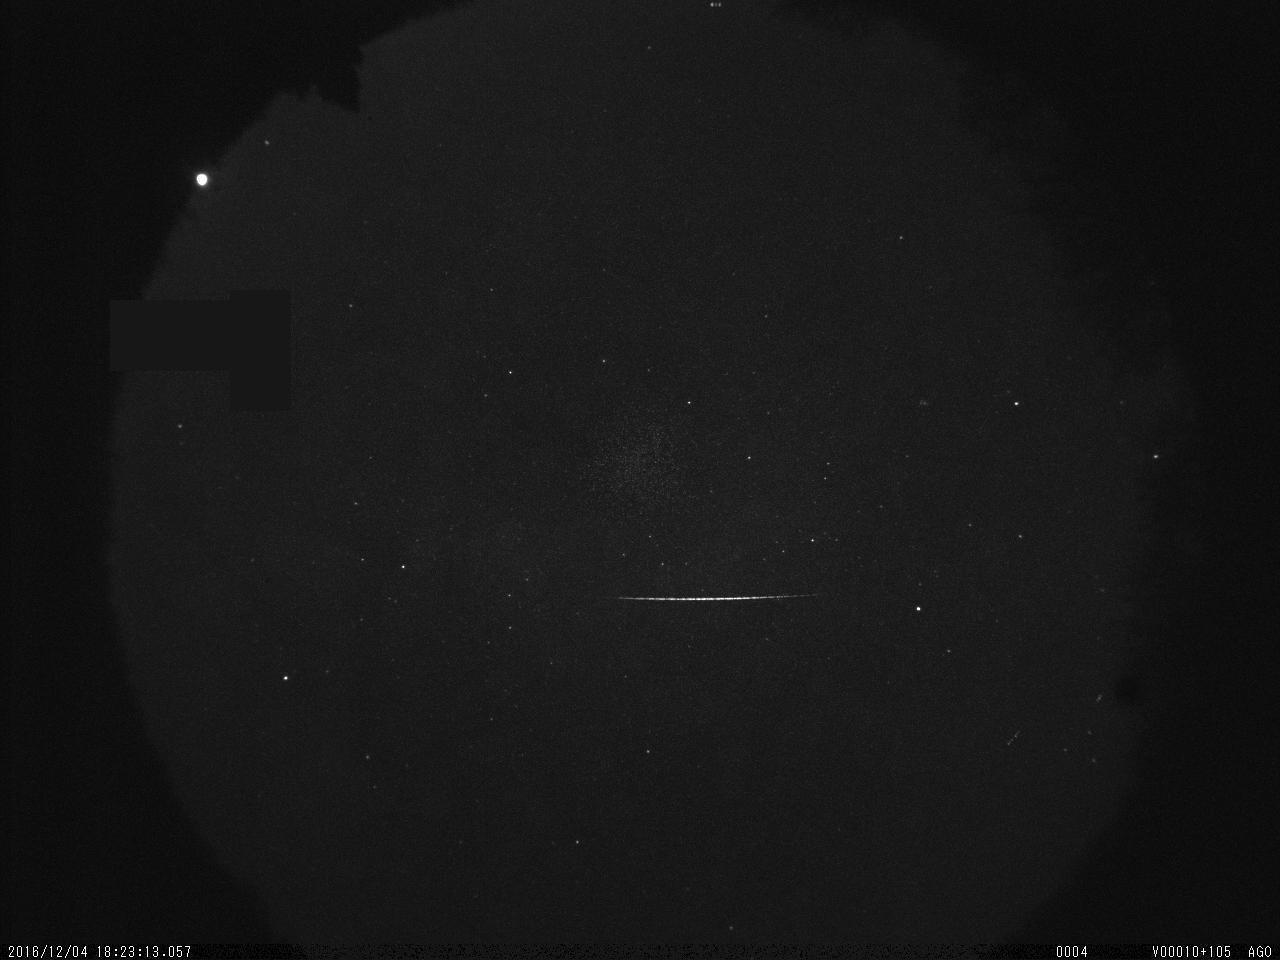Meteor: (608, 587, 831, 604)
